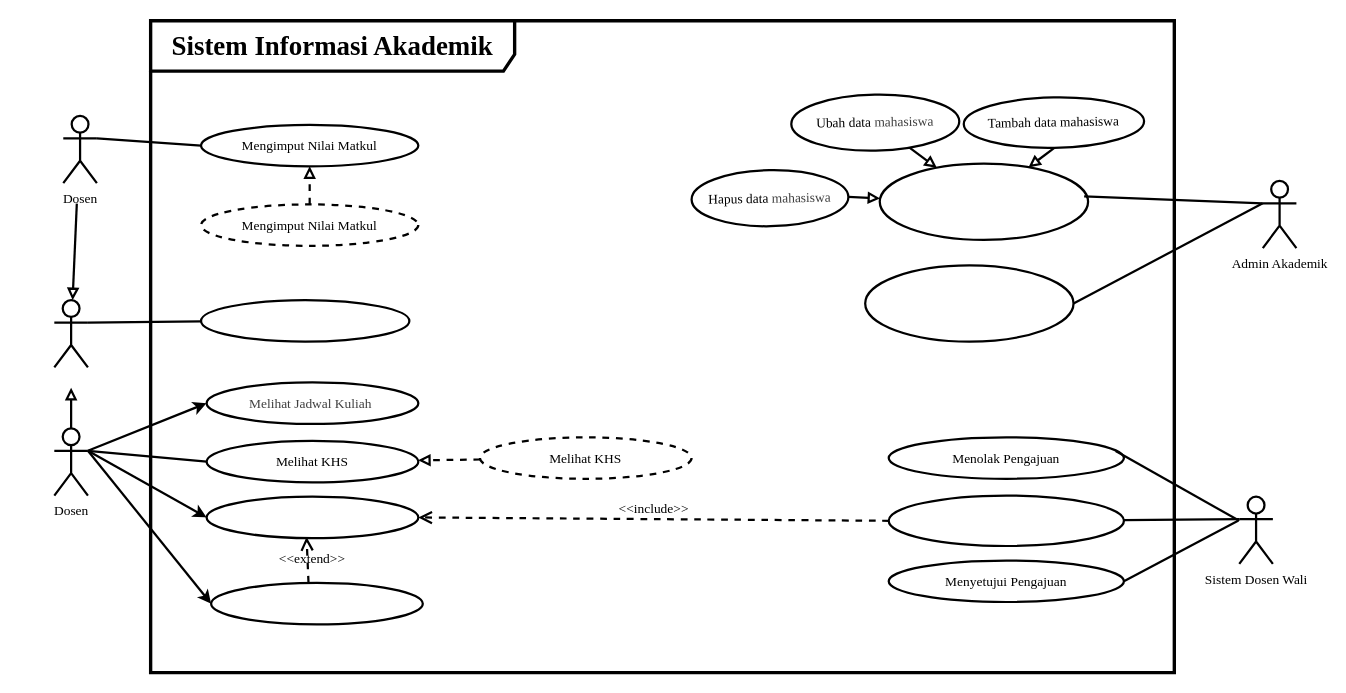
Some shapes in this 1346 by 693 pixel diagram are drawn without their labels. The centre of each missing label's shape, as x and y in pixels:
Civitas Akademika: point (70, 333)
Melihat Kalender Akademik: point (304, 320)
Memvalidasi KRS: point (1005, 520)
Mengajukan KRS: point (312, 517)
Mengelola Data Mahasiswa: point (983, 201)
Mengelola Jadwal Kuliah: point (969, 303)
Mengunduh Bukti: point (316, 603)
